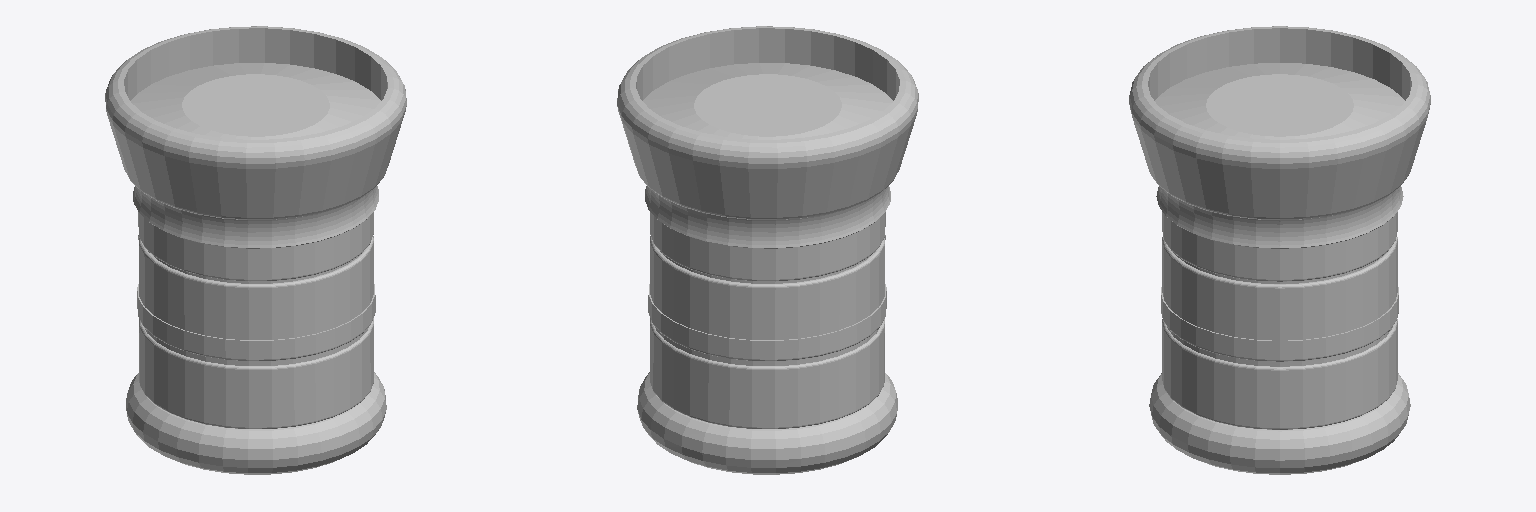
The model's file is SetA_PottedPlant_Style_04.obj.
3 views of the same model, side by side, from view 1: azimuth 30°, elevation 25°; view 2: azimuth 150°, elevation 25°; view 3: azimuth 270°, elevation 25° (orthographic).
Parts seen in each view (by area): view 1: SetA_PottedPlant_Style_04; view 2: SetA_PottedPlant_Style_04; view 3: SetA_PottedPlant_Style_04.
Part boxes in pixels (bbox=[...]): SetA_PottedPlant_Style_04: bbox=[105, 26, 406, 474]; SetA_PottedPlant_Style_04: bbox=[617, 26, 918, 474]; SetA_PottedPlant_Style_04: bbox=[1129, 26, 1430, 474].
Bounding box in the file's own units: 0.2916 × 0.3657 × 0.2916.